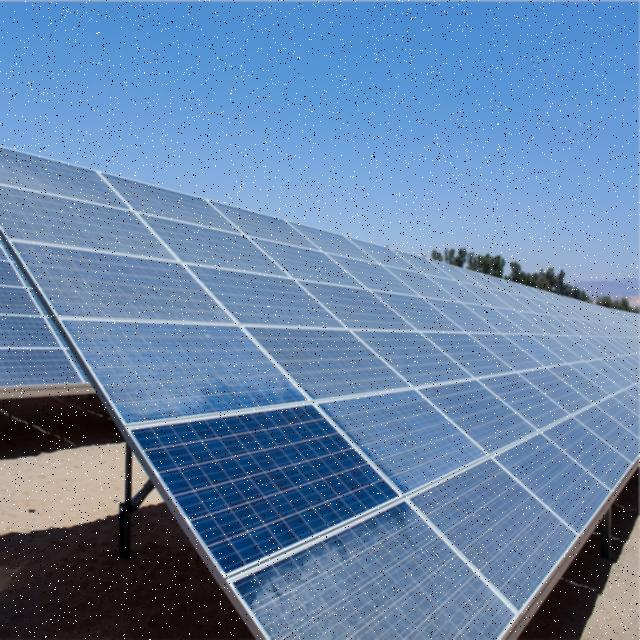dusty: (2, 141, 638, 615), (239, 504, 509, 640)
